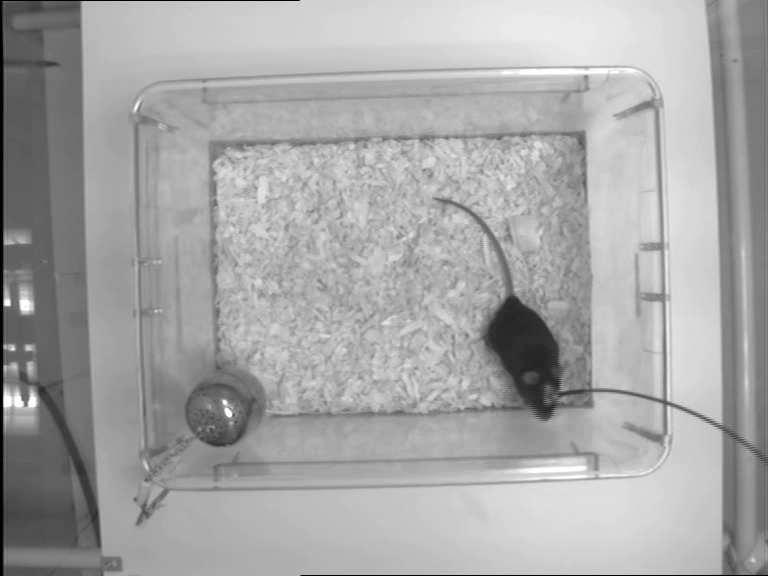mice: (427, 194, 560, 422)
